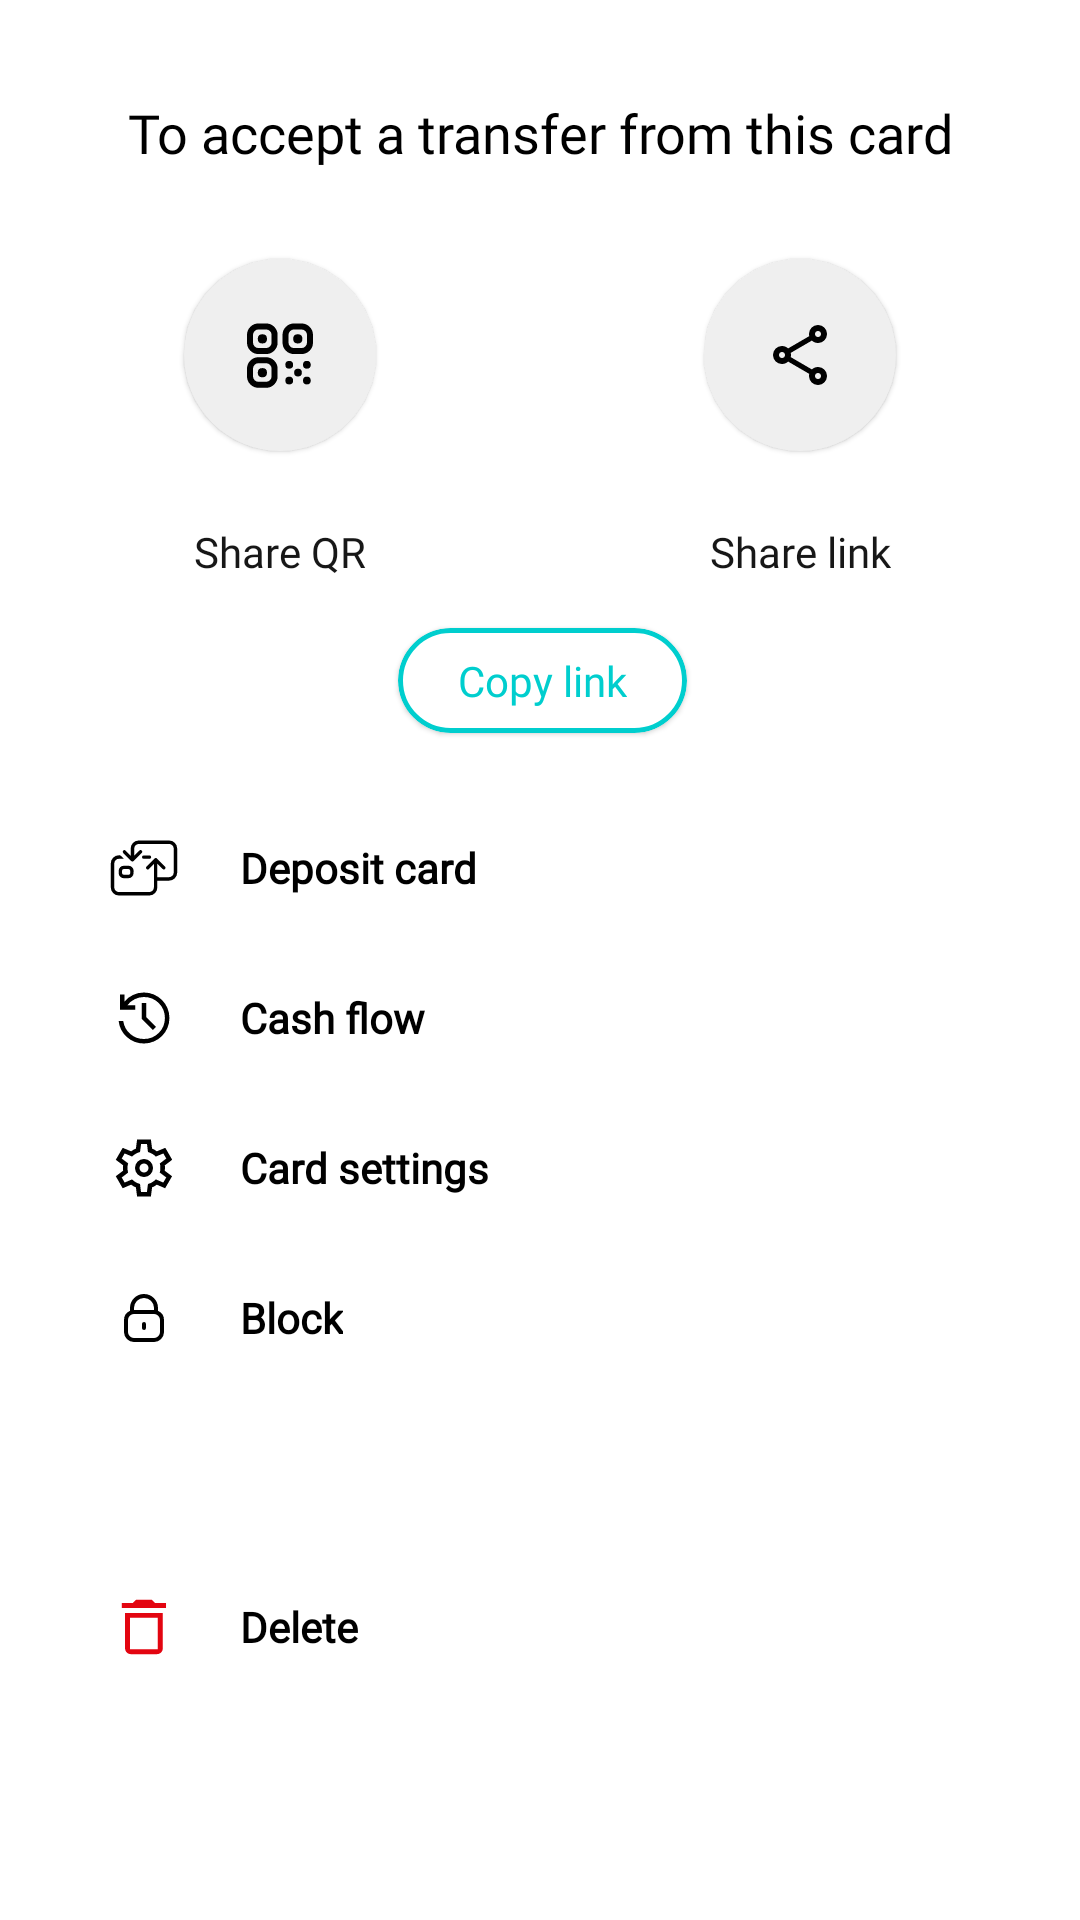

Locate icon controls on the screen. Image size 1080*1920, boxes as (x1, y1, x2, y2).
history: (118, 992, 170, 1044)
perevod: (110, 840, 178, 896)
